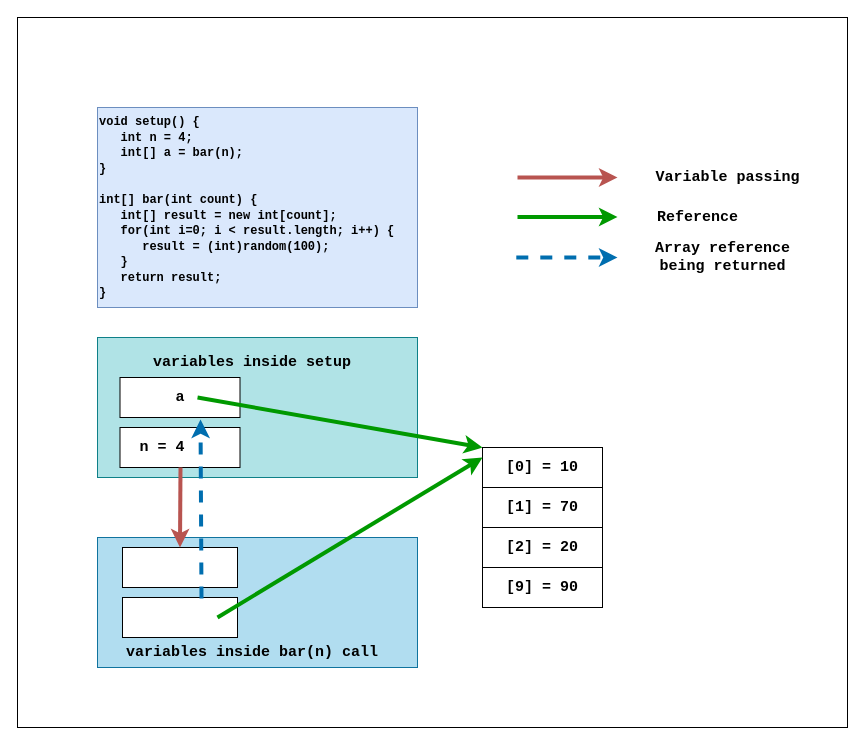
The diagram is 865 pixels wide and 745 high, and some of its shapes have lost their labels. Here are the shapes that lost their labels. From the top down, the centre of each, then its label:
At point 180,567: "count = 4".
At point 180,617: "result".
